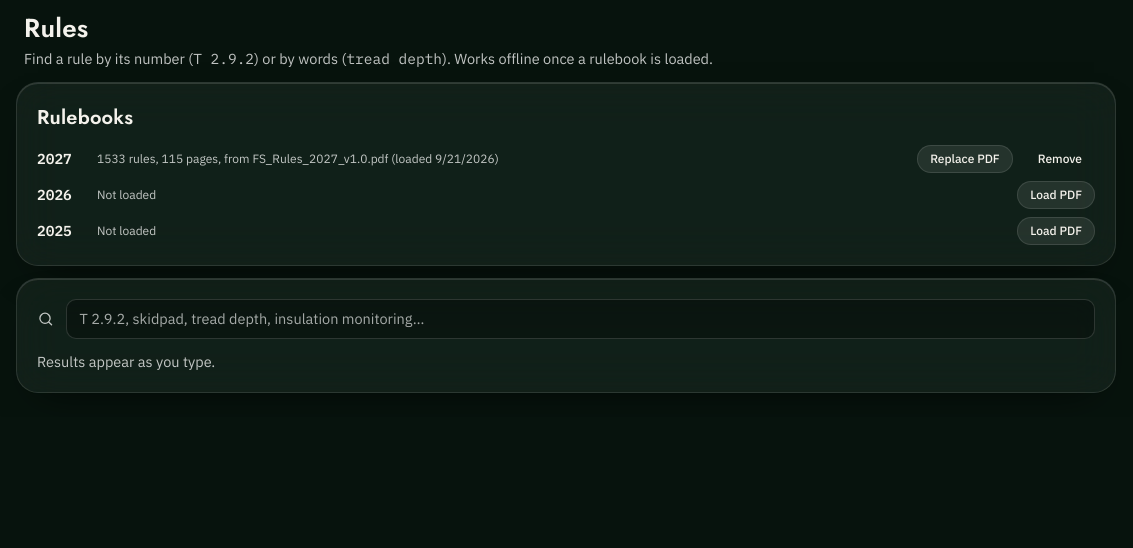
Rules view › says so when nothing matches, and deleting the rulebook returns to the empty state
Type "zebra" into the search field at (581, 319), box [66, 299, 1095, 339]
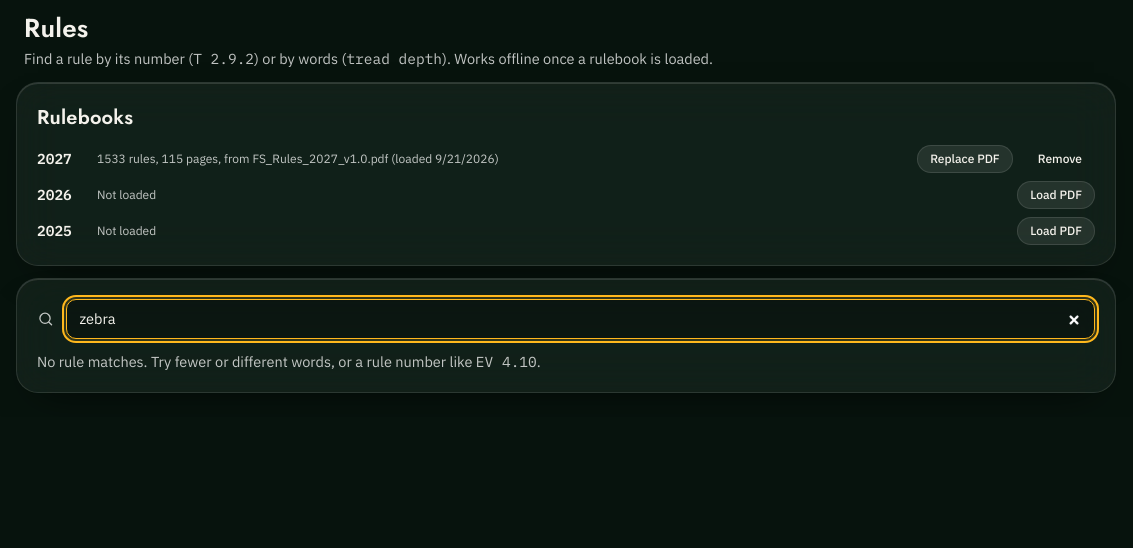
Result: the text "No rule matches" is shown at [37, 352, 476, 370]
Click the button with aria-label "Remove the 2027 rulebook" at (1060, 159), box [1025, 145, 1095, 173]
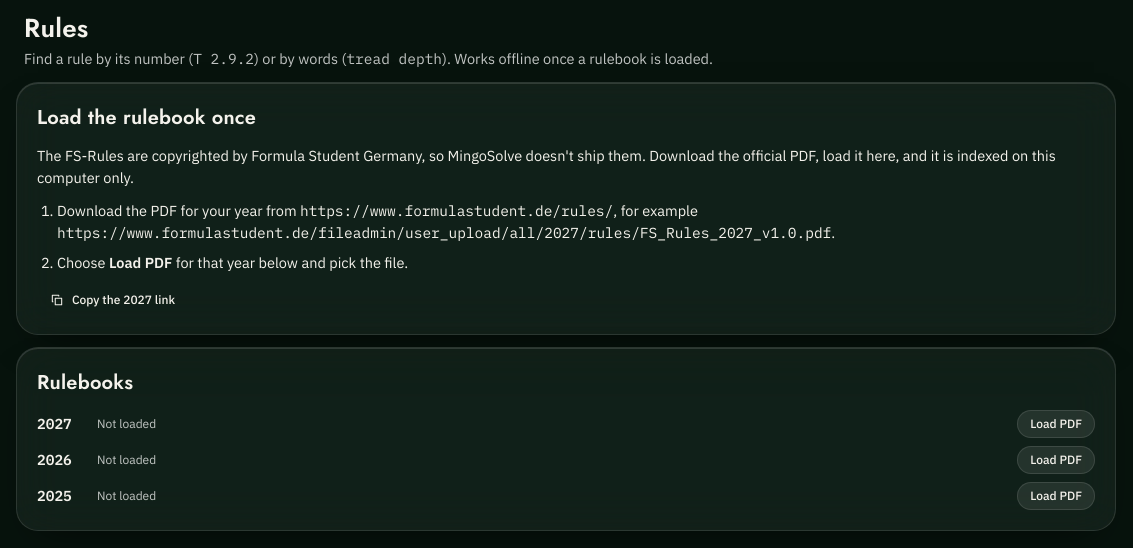
Result: the heading "Load the rulebook once" is shown at [37, 103, 256, 132]
